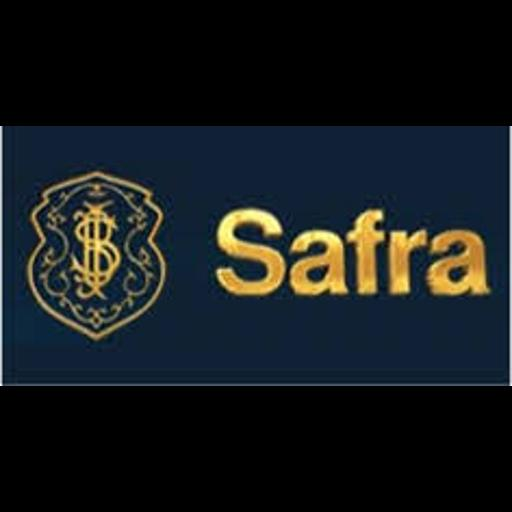Banco Safra: (0, 126, 512, 386)
